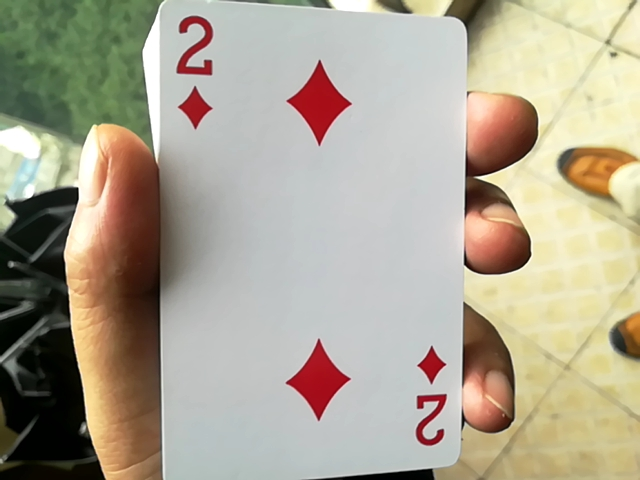fk 2: (143, 0, 474, 477)
